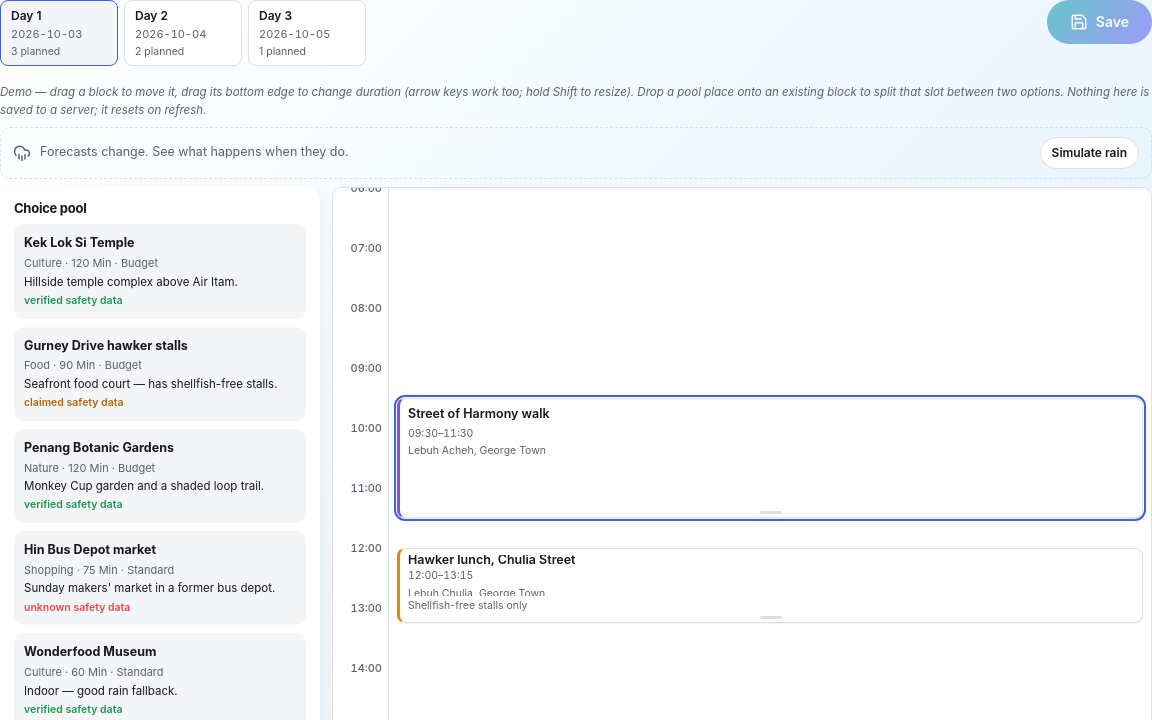
Scenario: DemoDecisions › adds a decision card when a Timeline change is saved
Press Arrowdown Arrowdown
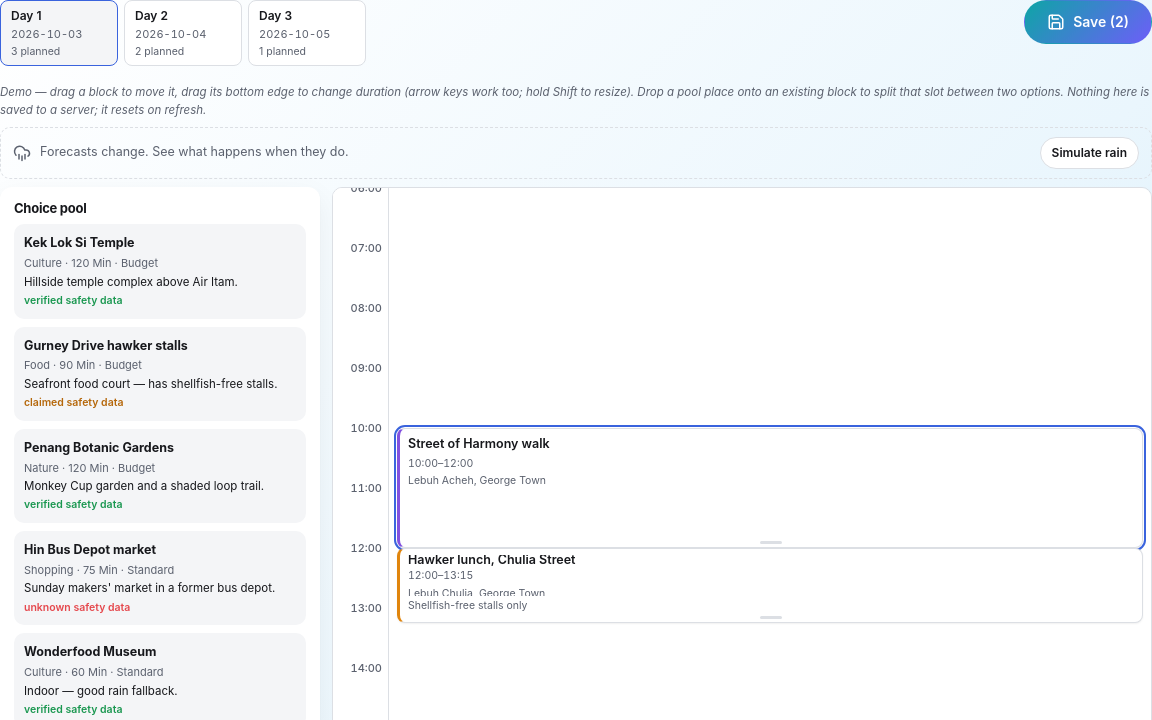
Click the button "Save (2)" at (1088, 22), box [1024,0,1151,44]
(page scrolled)
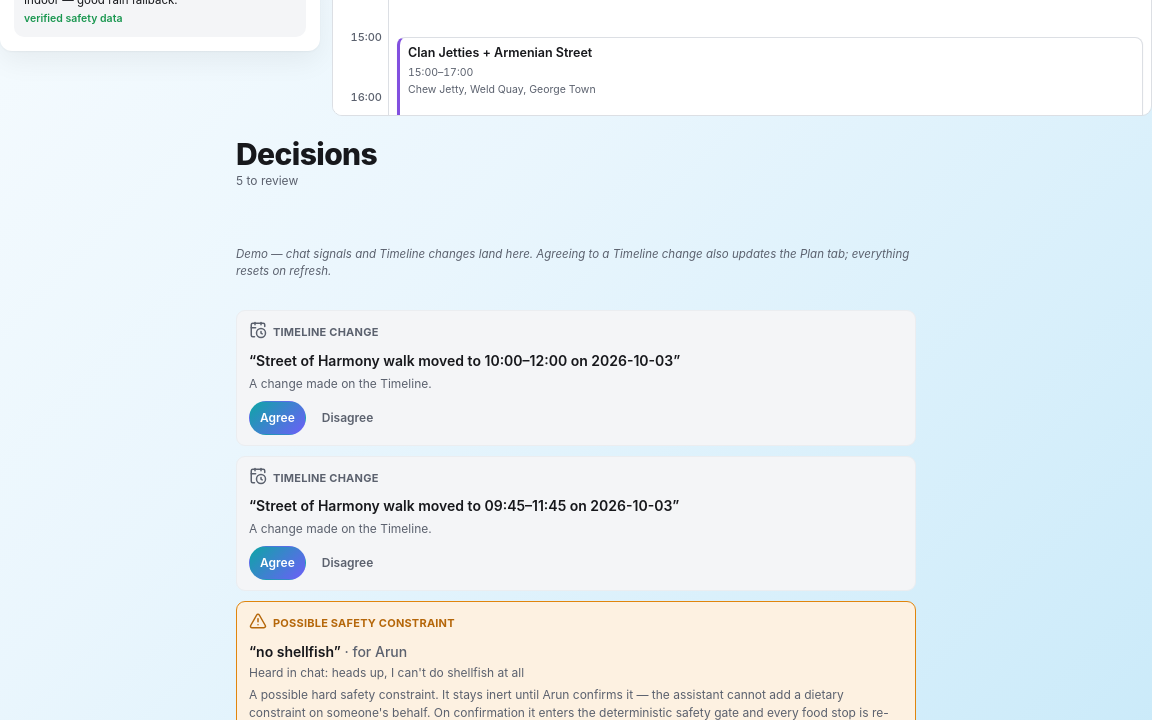
Result: the text "Timeline change" is shown 2 times at [273,324,378,341]; [273,470,378,486]
Result: the text "“Street of Harmony walk moved to 10:00–12:00 on 2026-10-03”" is shown at [249,352,680,369]
